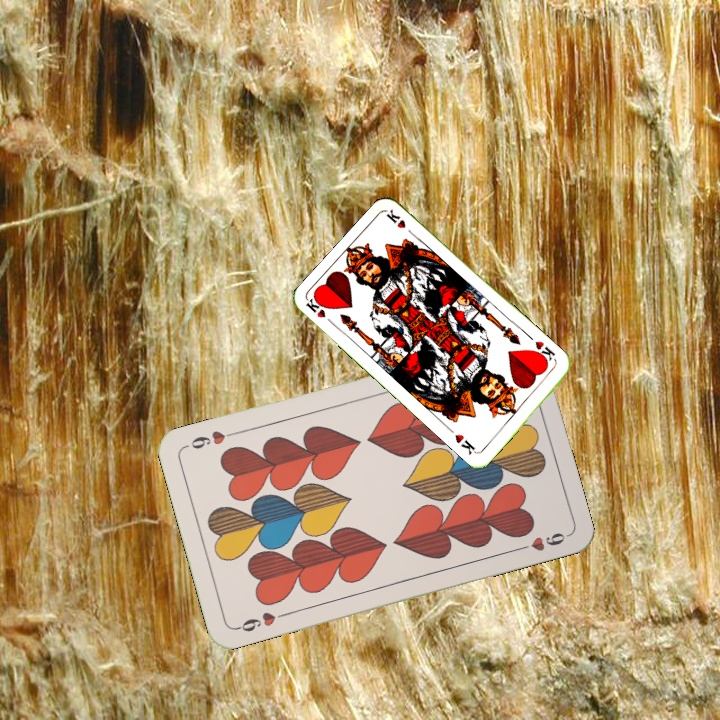H9: (232, 608, 290, 635)
HK: (302, 293, 338, 329), (529, 337, 559, 366)
